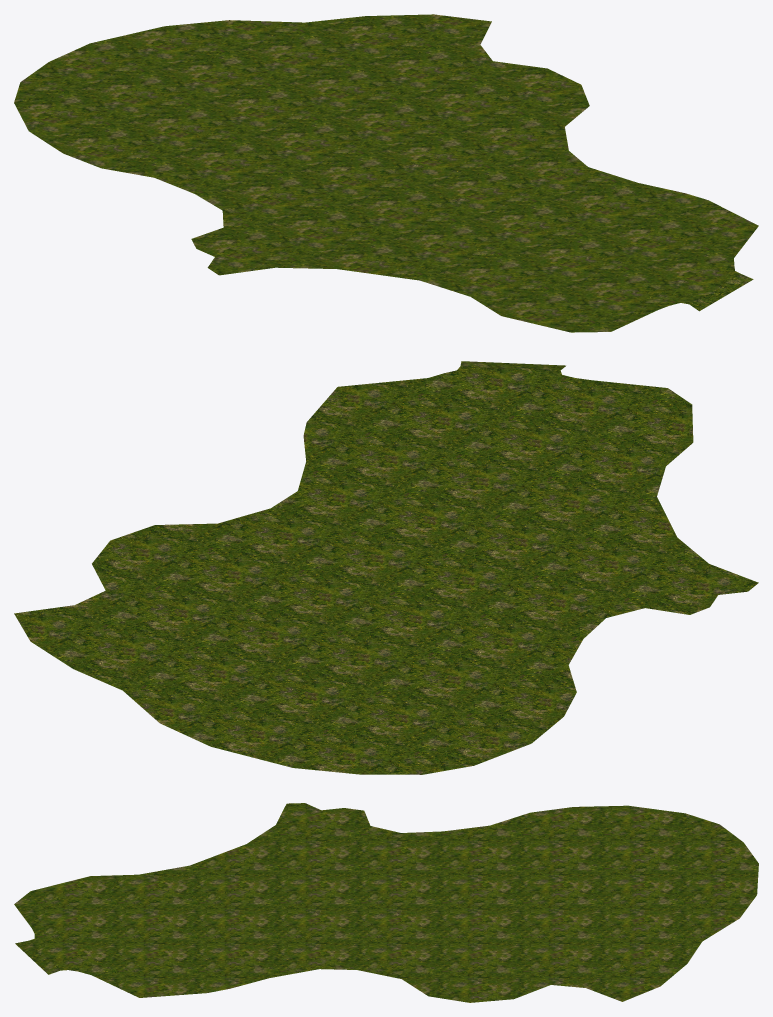
Rendered from OVERHILL_A_01_EXIT_GROUND.fbx.
The picture shows the model from 3 angles, top to bottom: view 1: azimuth 30°, elevation 25°; view 2: azimuth 150°, elevation 25°; view 3: azimuth 270°, elevation 25°; orthographic projection. The views are drawn at different scales.
Visible parts, largest first — view 1: OVERHILL_A_01_EXIT_GROUND; view 2: OVERHILL_A_01_EXIT_GROUND; view 3: OVERHILL_A_01_EXIT_GROUND.
Part boxes in pixels (left/top/right/bottom): OVERHILL_A_01_EXIT_GROUND: left=14, top=14, right=758, bottom=332; OVERHILL_A_01_EXIT_GROUND: left=14, top=361, right=758, bottom=774; OVERHILL_A_01_EXIT_GROUND: left=14, top=803, right=758, bottom=1002.
Size of the model in its own units: 116721 by 616 by 183938.
1 material, 1 textured.
